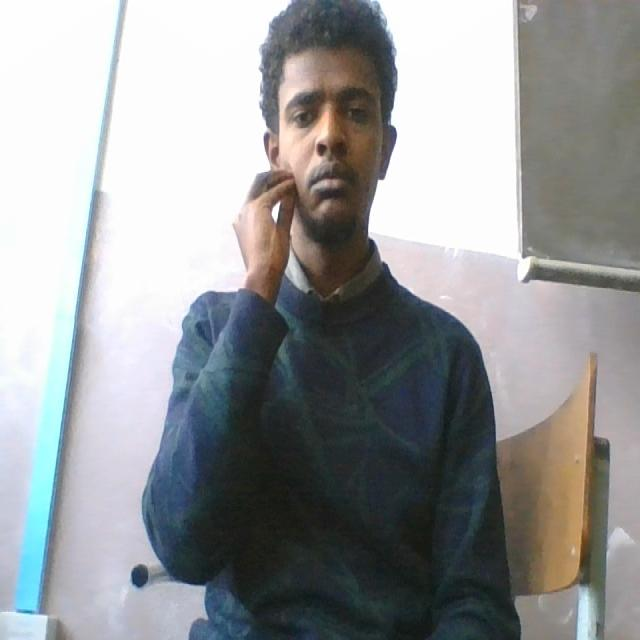bet: (227, 158, 403, 274)
